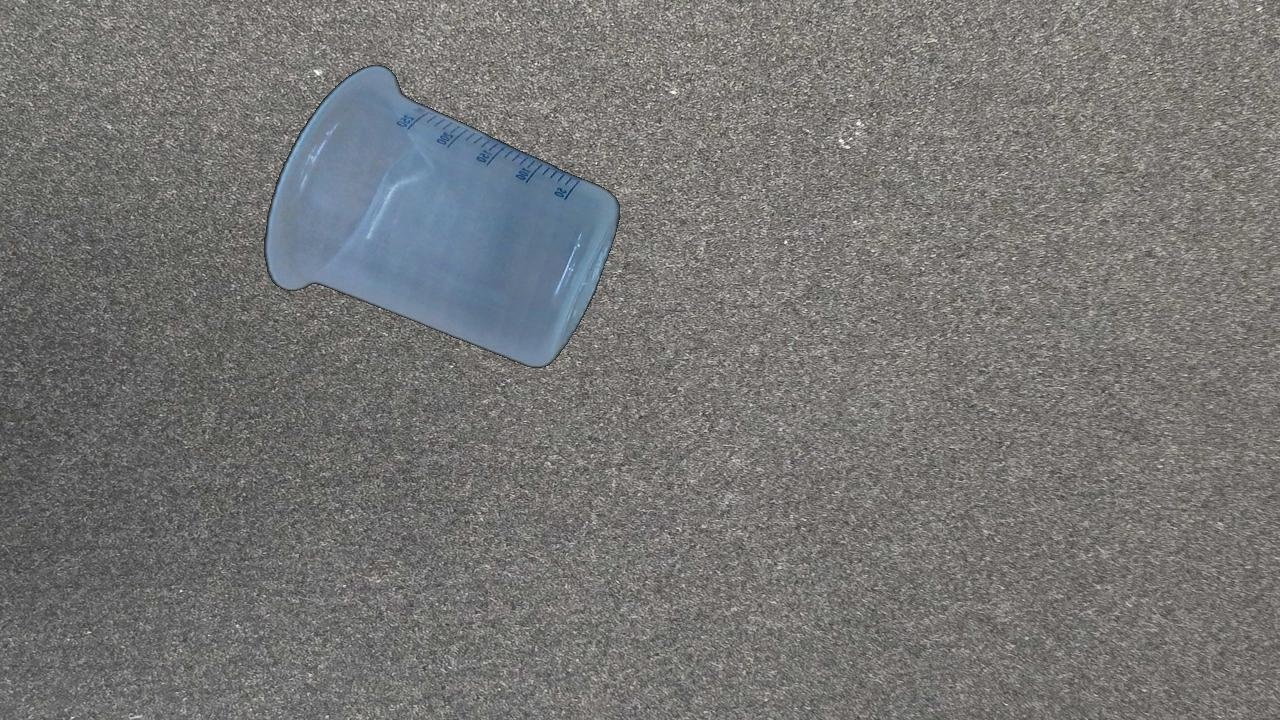becker: (261, 66, 621, 370)
